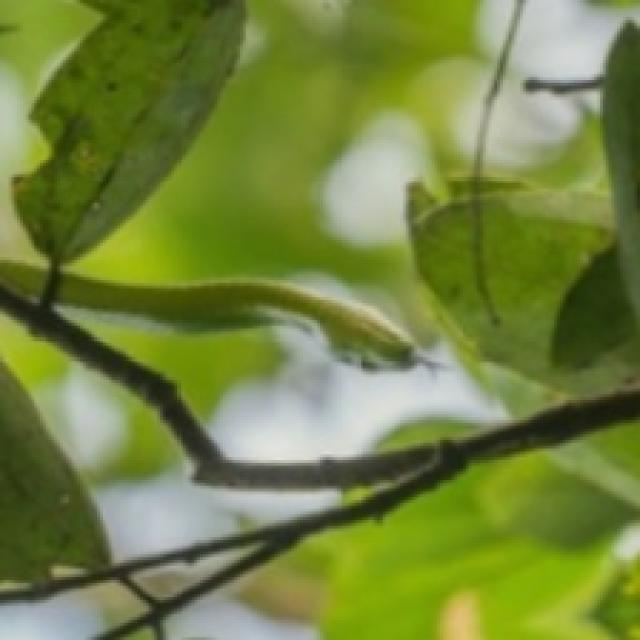red-tailed green ratsnake: (61, 274, 425, 369), (0, 262, 46, 297)
